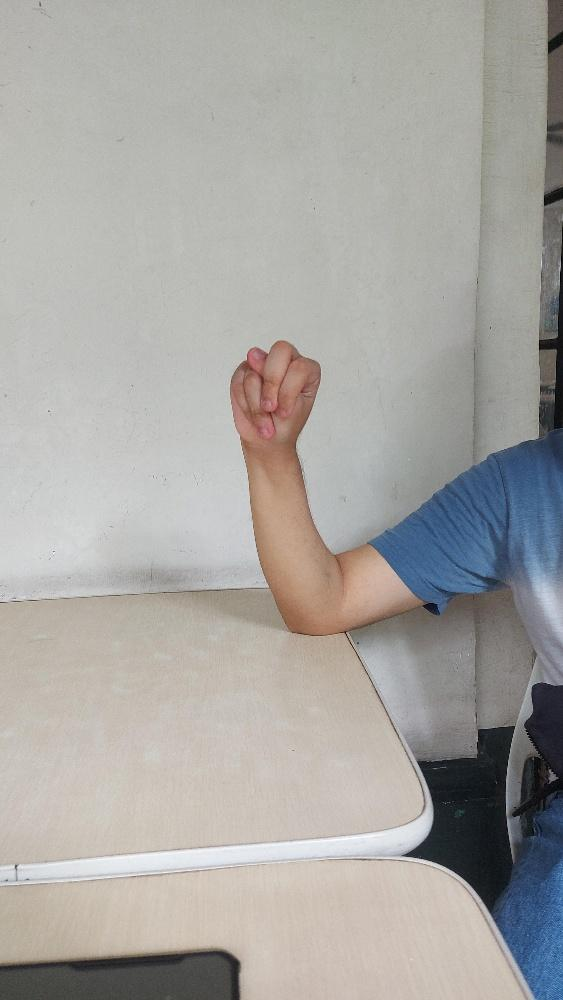n: (228, 339, 320, 445)
